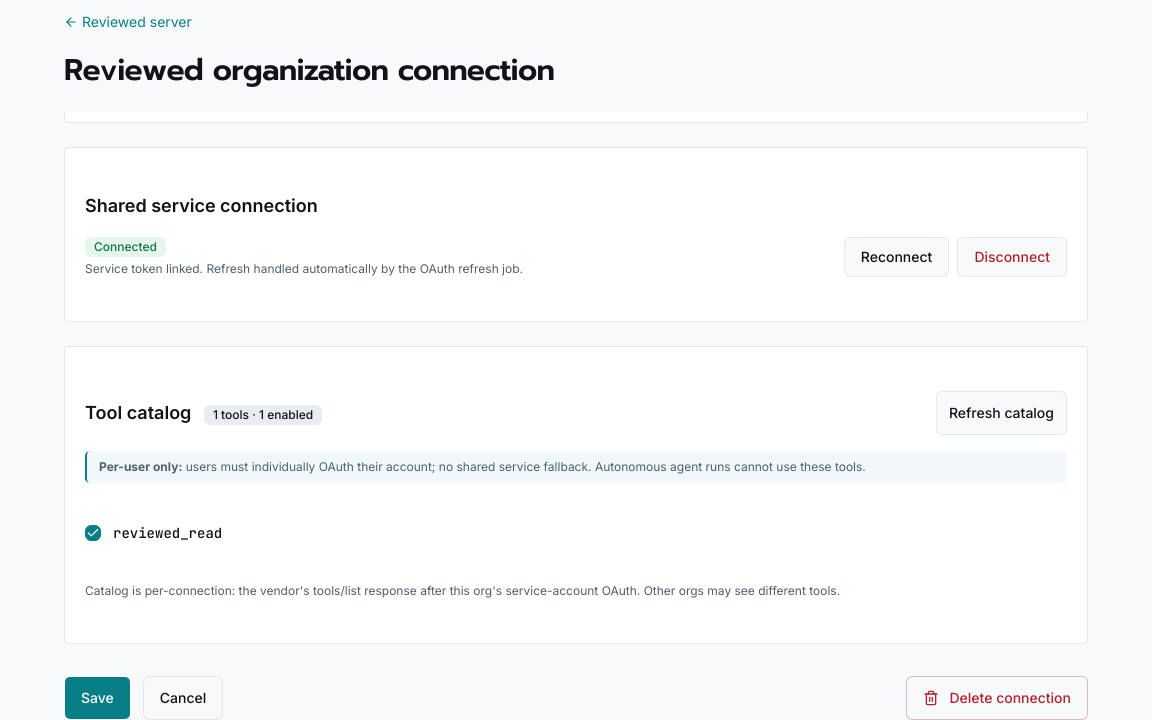
Test: connection edits and recovery › does not patch tools after connection-level rejection
(page scrolled)
Step 1. Click the checkbox named "reviewed_read" → (93,533), box [85,525,101,541]
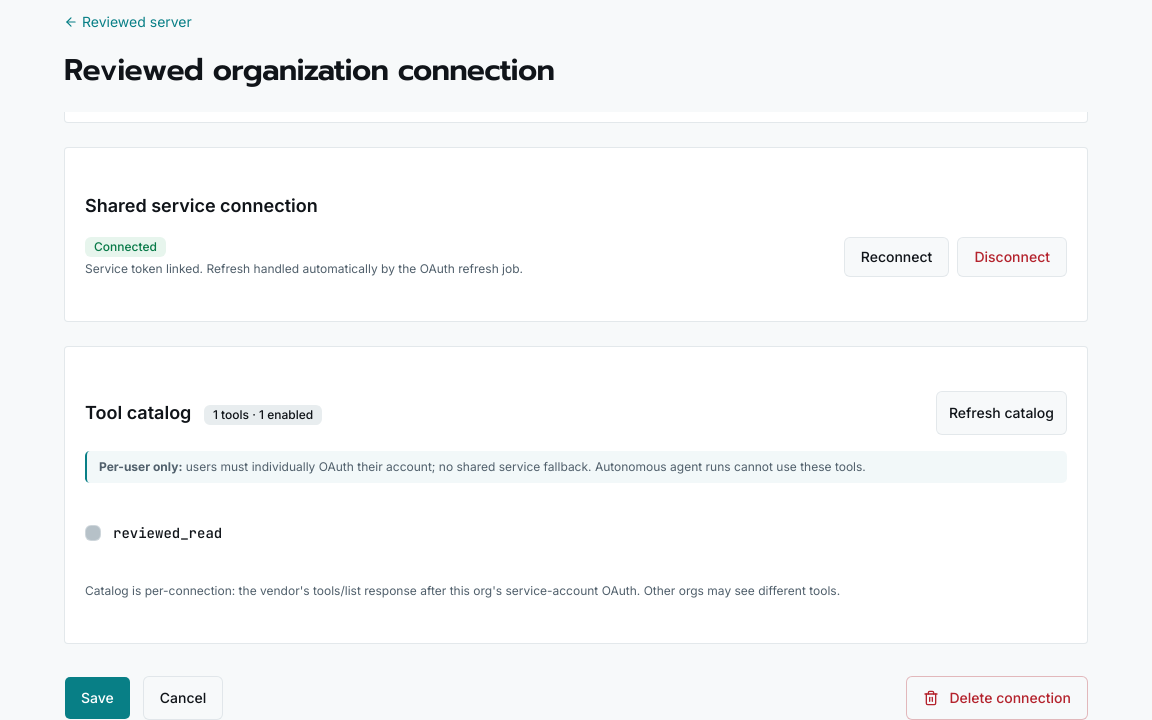
Step 2. Click the button "Save" → (97,698), box [64,676,131,719]
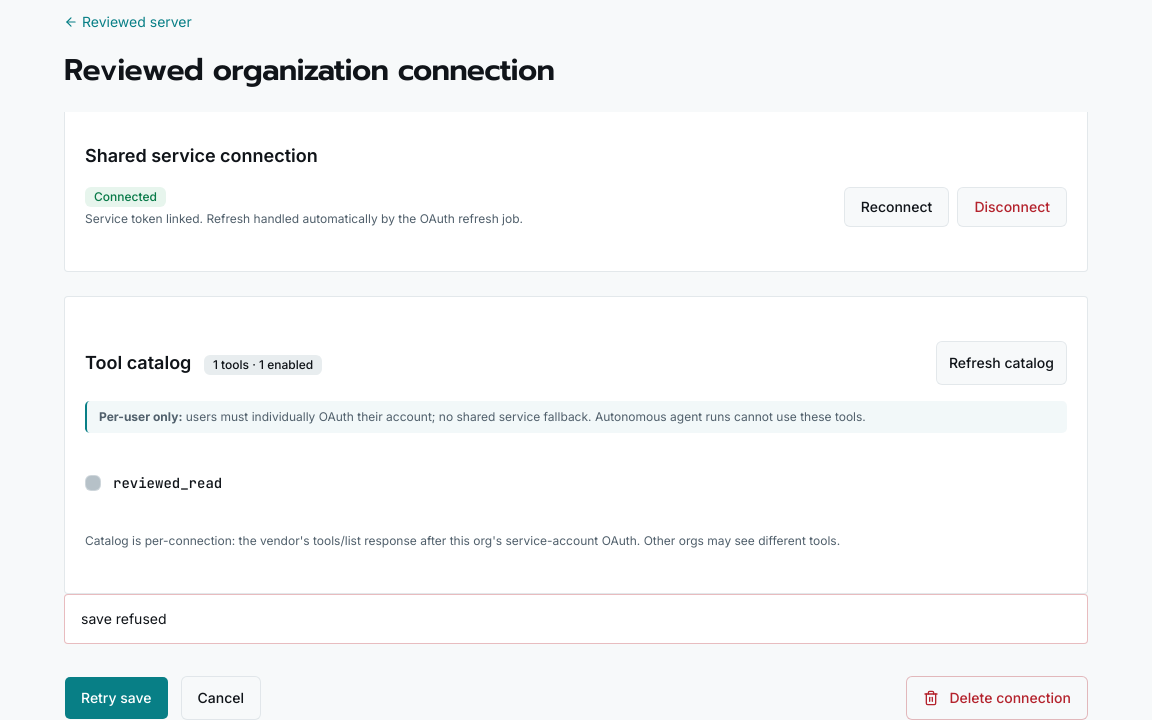
Now the text "save refused" is shown, box [81,610,166,627]
